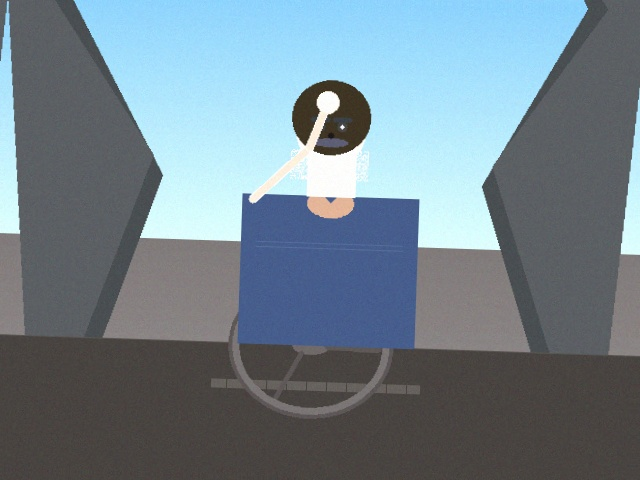hands_off_wheel: (300, 78, 345, 126)
